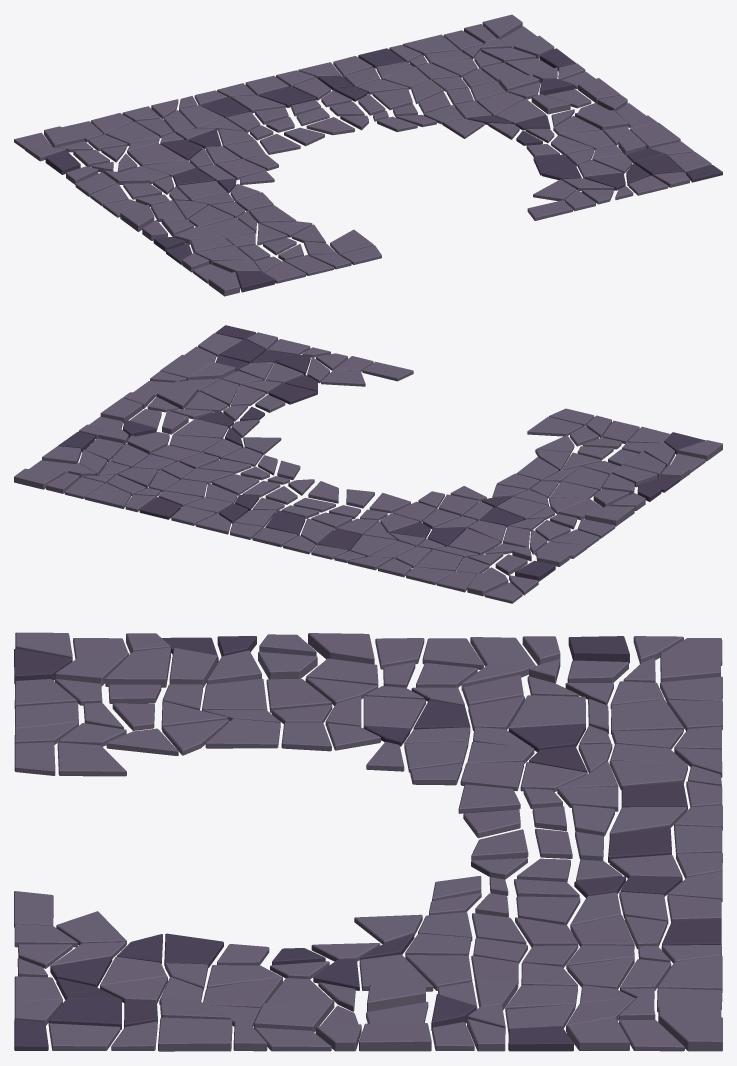
The model's file is Floor3.fbx.
3 views of the same model, one above another, from view 1: azimuth 30°, elevation 25°; view 2: azimuth 150°, elevation 25°; view 3: azimuth 270°, elevation 25° (orthographic). The views are drawn at different scales.
Visible parts, largest first — view 1: Slab2_0_0.001; view 2: Slab2_0_0.001; view 3: Slab2_0_0.001.
Boxes of the visible parts, x1,y1,x2,y2 form: Slab2_0_0.001: (14, 14, 722, 296); Slab2_0_0.001: (14, 325, 722, 603); Slab2_0_0.001: (14, 632, 722, 1051).
Bounding box in the file's own units: 14970 × 200 × 10974.
